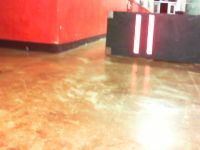switch: (133, 14, 142, 54), (146, 15, 155, 55)
